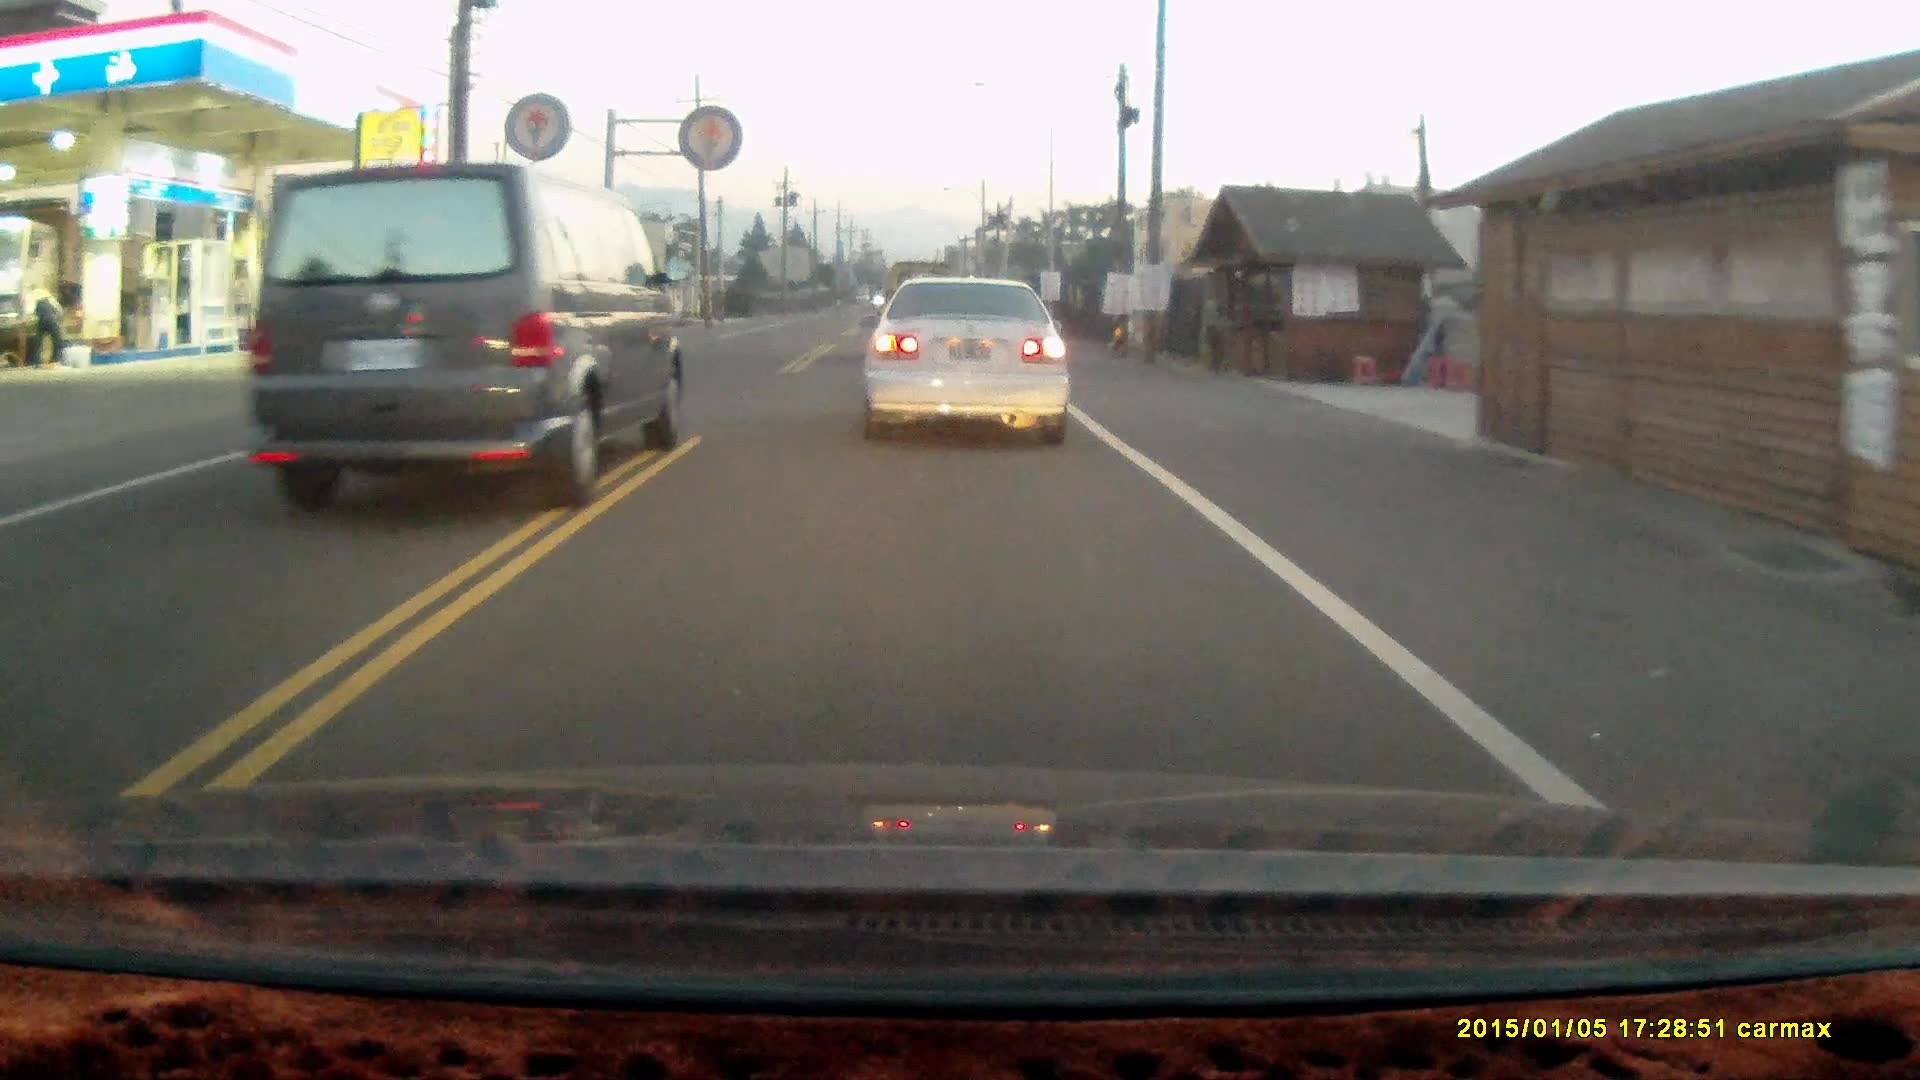pedestrian: (31, 281, 66, 370)
vehicle: (245, 164, 687, 524), (863, 279, 1074, 456), (1, 204, 142, 370)
